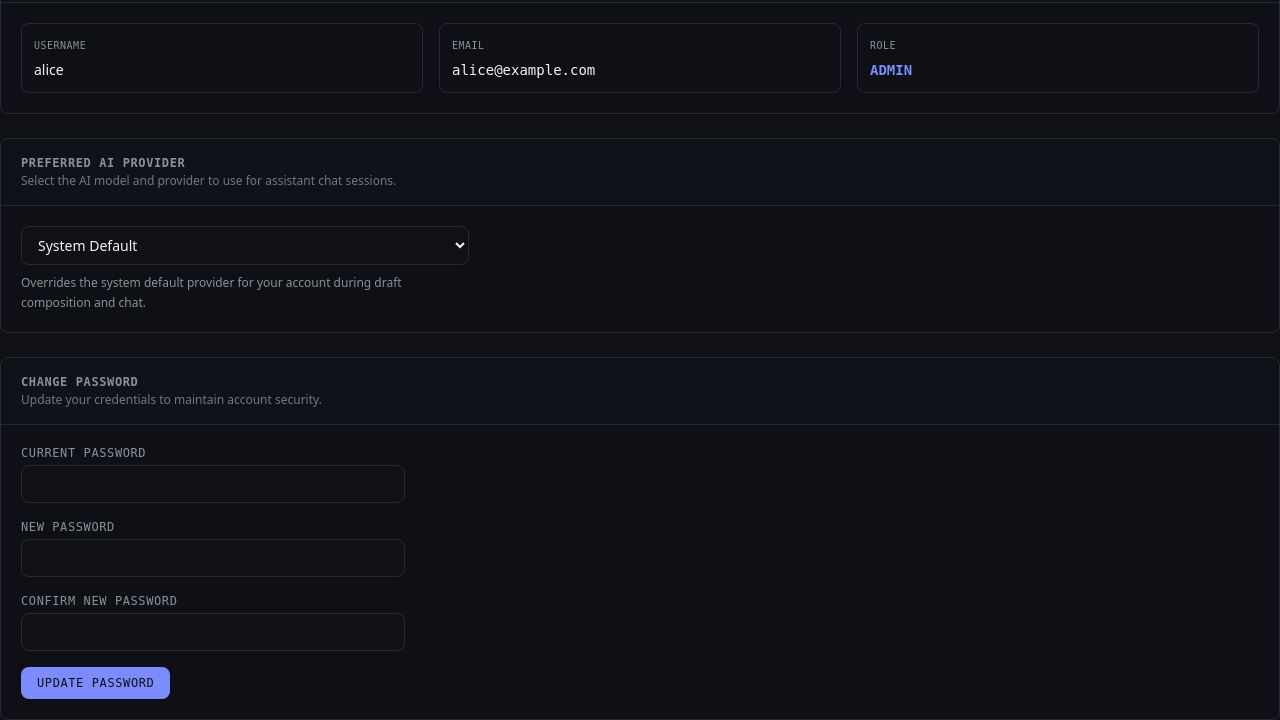
Test: AccountTab › shows validation error when submitting empty password form
This screenshot has width=1280, height=720.
(page scrolled)
Click the button "update password". click: [96, 683]
box: [21, 667, 170, 699]
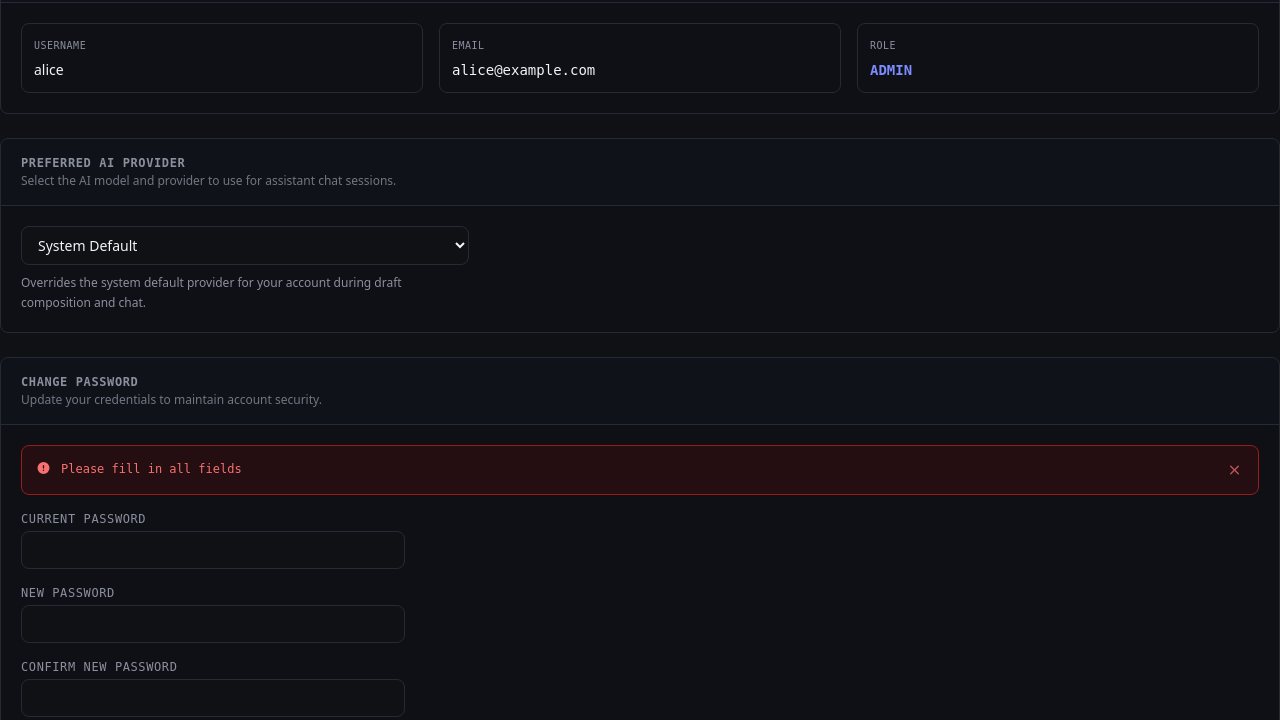
Result: the text "Please fill in all fields" is shown at [61, 460, 242, 480]
